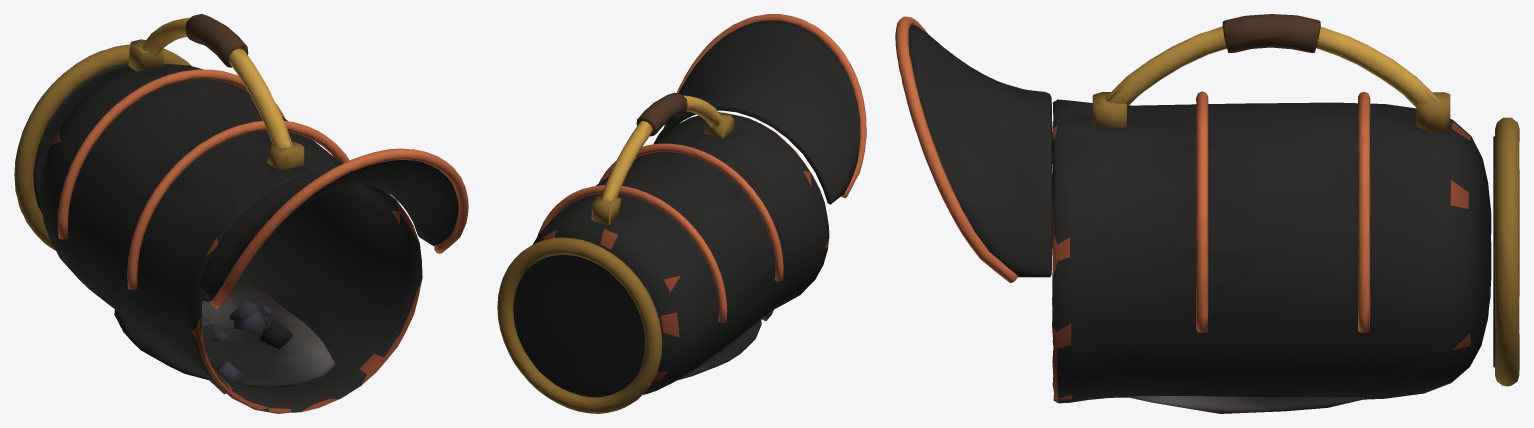
The model's file is ember_coal_scuttle_lod1.glb.
The picture shows the model from 3 angles, left to right: view 1: azimuth 30°, elevation 25°; view 2: azimuth 150°, elevation 25°; view 3: azimuth 270°, elevation 25°; orthographic projection. The views are drawn at different scales.
Visible parts, largest first — view 1: ember_coal_scuttle.001; view 2: ember_coal_scuttle.001; view 3: ember_coal_scuttle.001.
Part boxes in pixels (x1,y1,x2,y2): ember_coal_scuttle.001: (14,14,468,413); ember_coal_scuttle.001: (497,14,866,413); ember_coal_scuttle.001: (895,14,1519,413).
Bounding box in the file's own units: 27.86 × 35.5 × 54.05.
